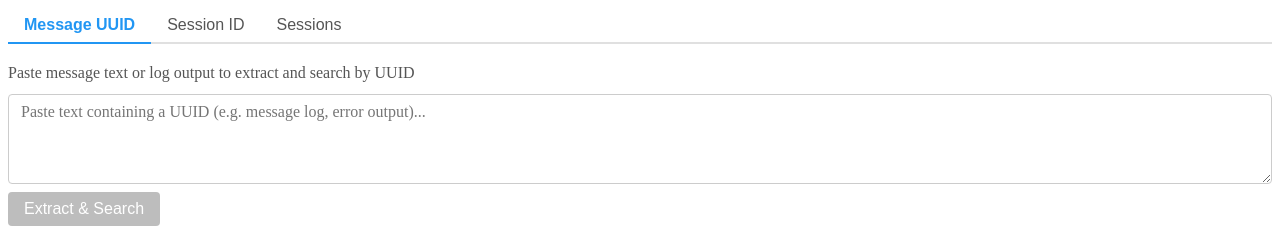
Test case: LookupTabs › tab switching › should show session-id-input when "Session ID" tab is clicked
The image size is (1280, 243).
Click the tab "Session ID" at (206, 26), box [151,8,261,44]
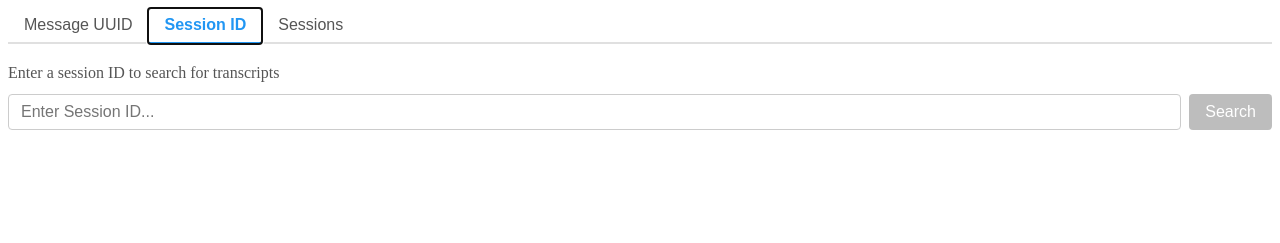
Result: the field with test id "session-id-input" is shown at [8,94,1181,130]
